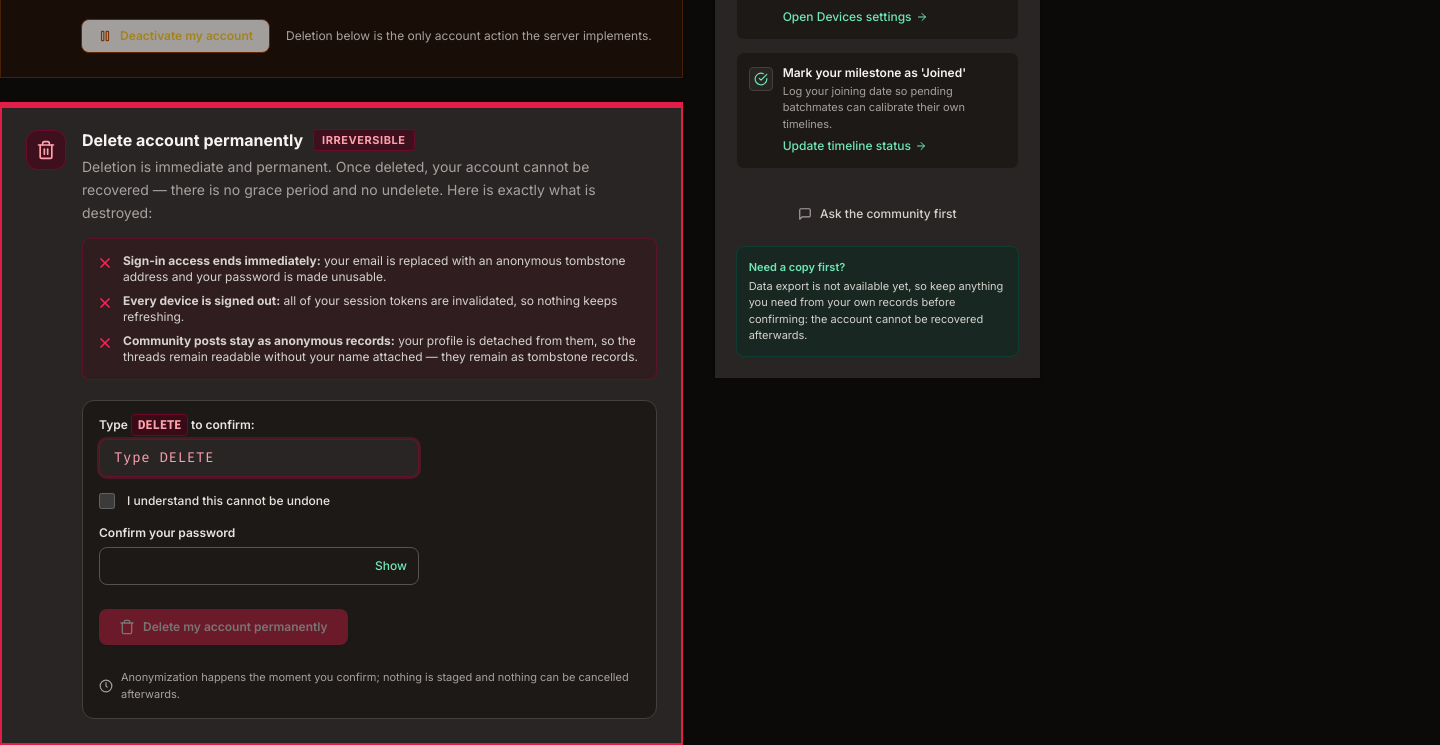
Scenario: SettingsDangerPage (9.5 Task 7) › keeps delete disabled until typed DELETE, checkbox and password are all present
(page scrolled)
Expected: the button with test id "delete-account-btn" is disabled, x1=99 y1=609 x2=348 y2=645
Type "DELETE" into the field with test id "delete-confirm-input" at (259, 458), box x1=99 y1=439 x2=419 y2=477
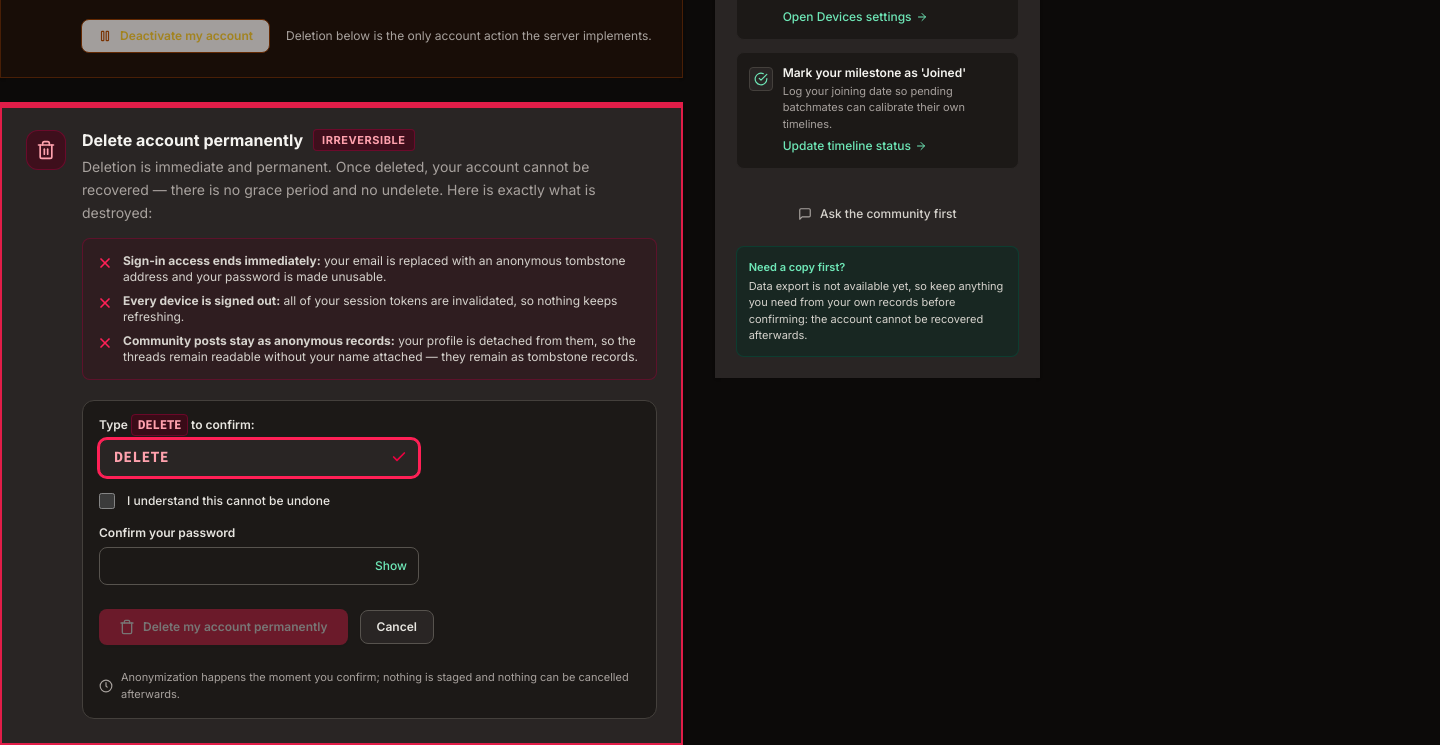
Expected: the button with test id "delete-account-btn" is disabled, x1=99 y1=609 x2=348 y2=645
Click the checkbox with test id "delete-understands" at (107, 501), box x1=99 y1=493 x2=115 y2=509
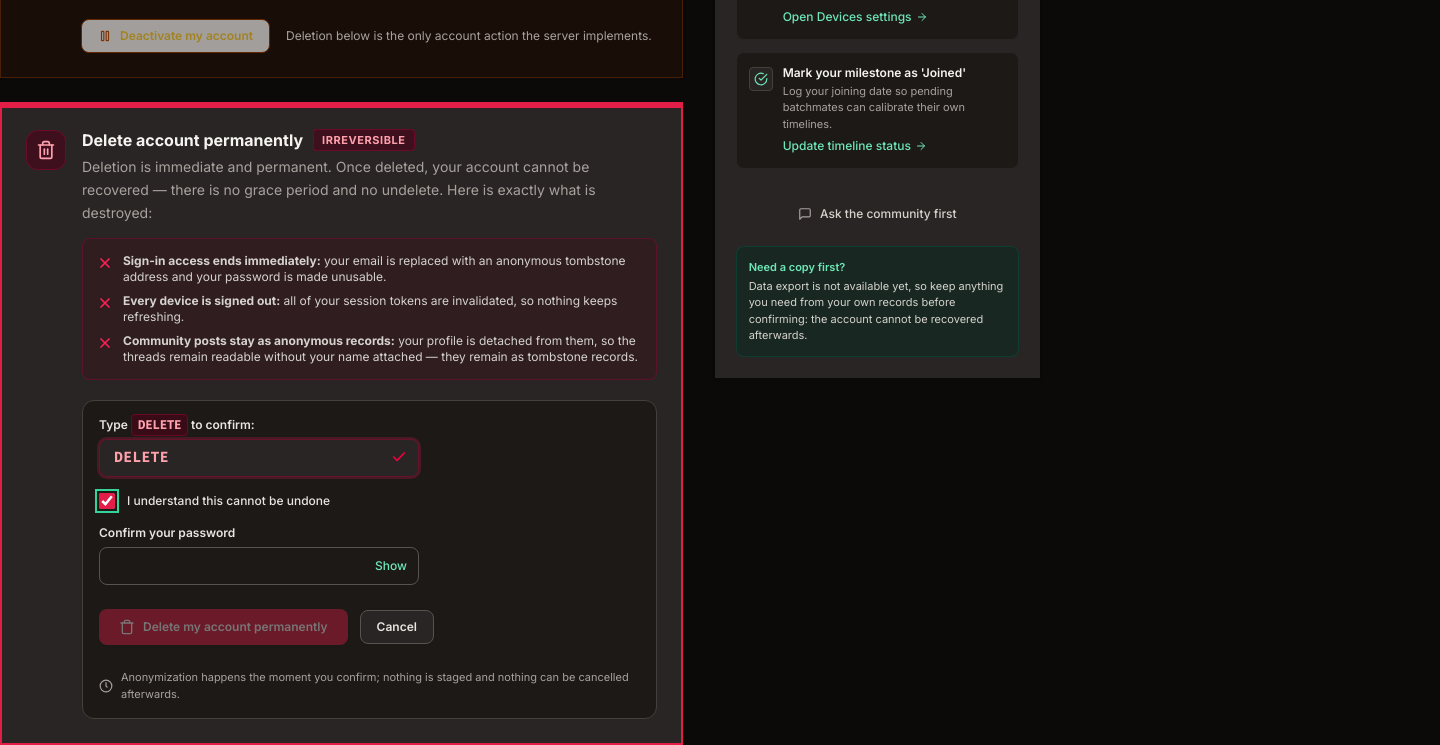
Expected: the button with test id "delete-account-btn" is disabled, x1=99 y1=609 x2=348 y2=645
Type "hunter2!" into the password field with test id "delete-password" at (259, 566), box x1=99 y1=547 x2=419 y2=585
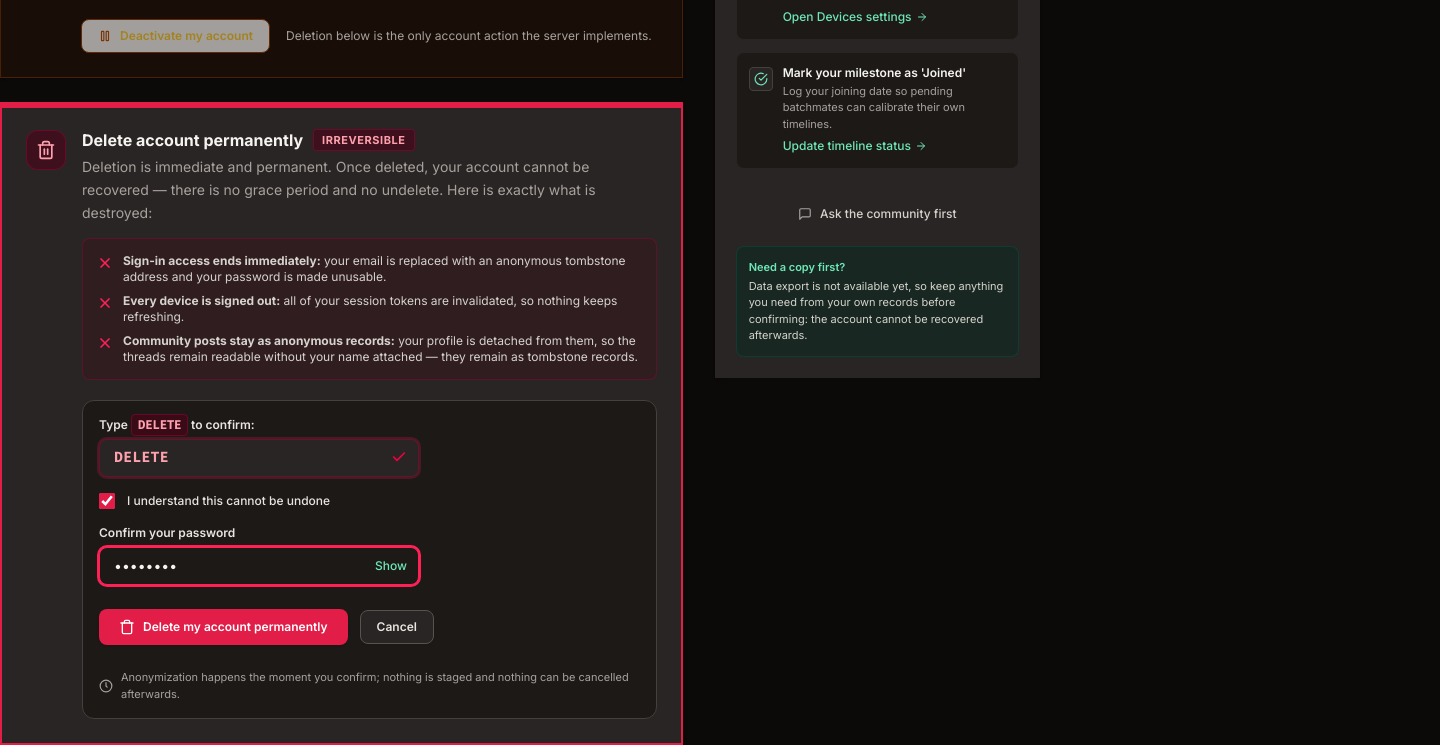
Expected: the button with test id "delete-account-btn" is enabled, x1=99 y1=609 x2=348 y2=645
Replace the text in the field with test id "delete-confirm-input" with "delete" at (259, 458), box x1=99 y1=439 x2=419 y2=477
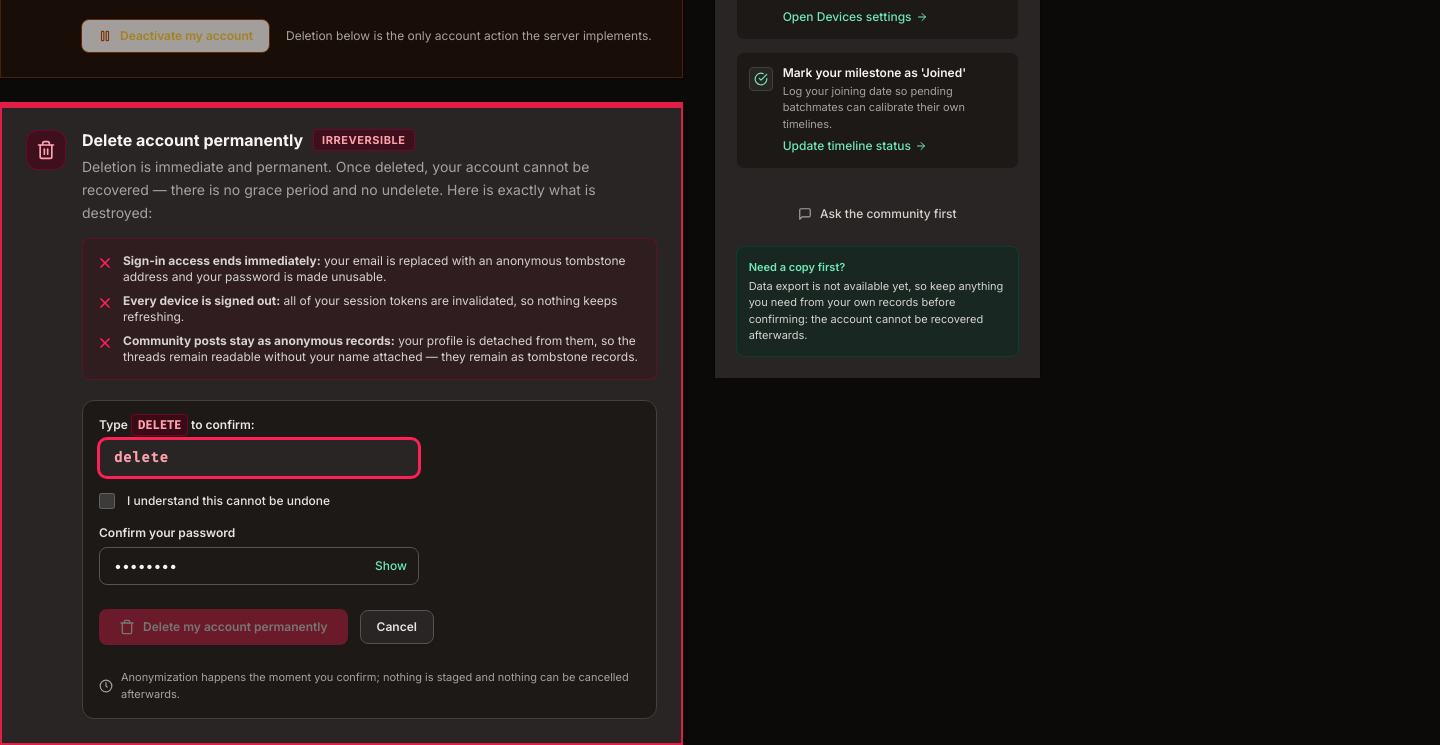
Expected: the checkbox with test id "delete-understands" is not checked, x1=99 y1=493 x2=115 y2=509
Expected: the button with test id "delete-account-btn" is disabled, x1=99 y1=609 x2=348 y2=645
// Full re-arm: retype DELETE, re-accept, still needs the password intact.
Replace the text in the field with test id "delete-confirm-input" with "DELETE" at (259, 458), box x1=99 y1=439 x2=419 y2=477
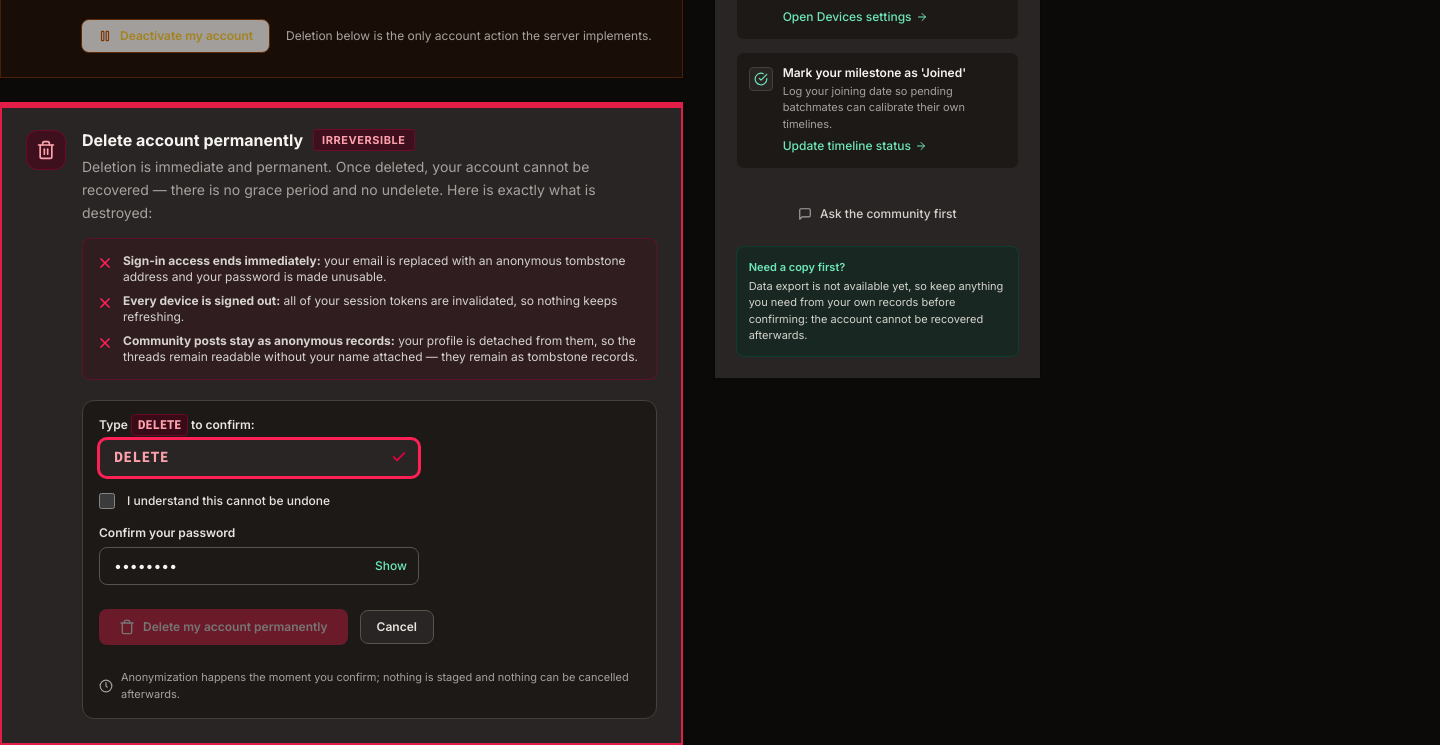
Click the checkbox with test id "delete-understands" at (107, 501), box x1=99 y1=493 x2=115 y2=509
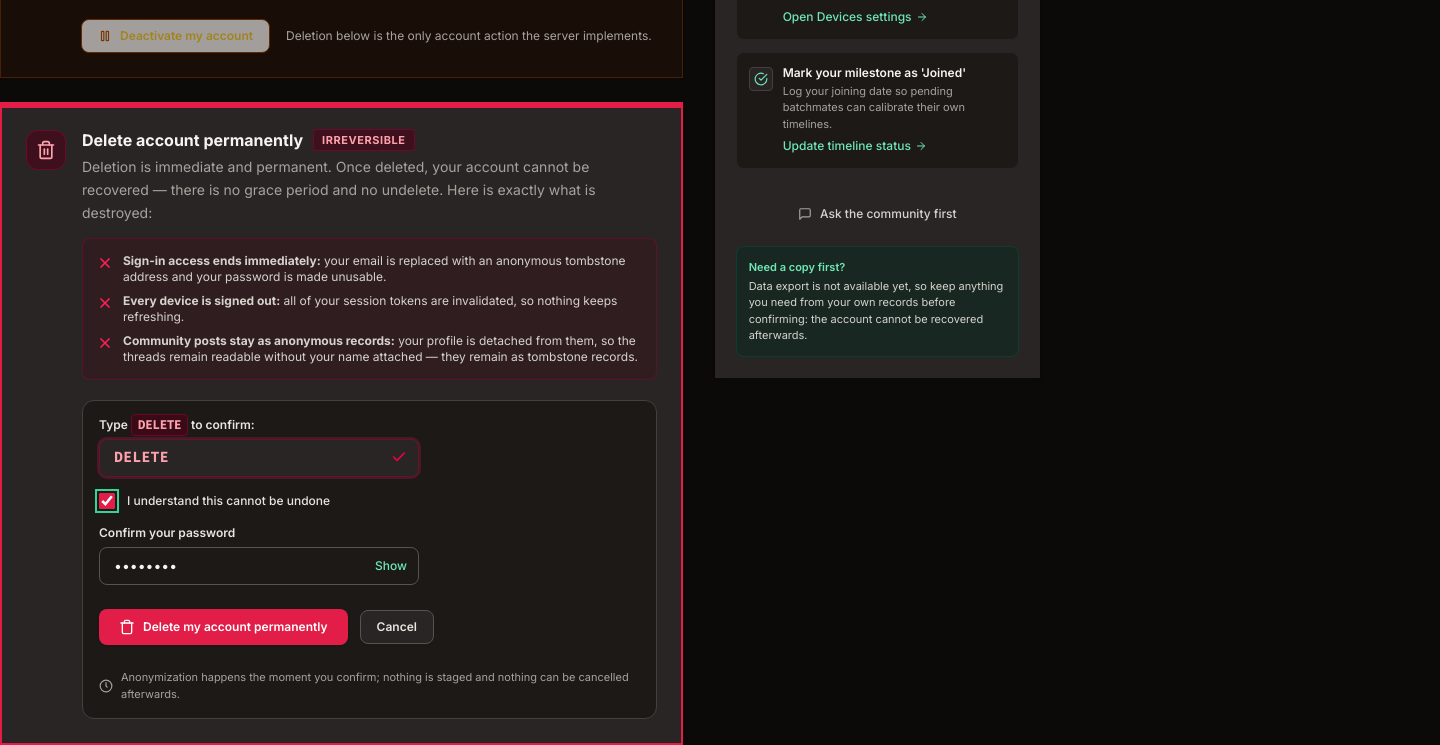
Expected: the button with test id "delete-account-btn" is enabled, x1=99 y1=609 x2=348 y2=645
